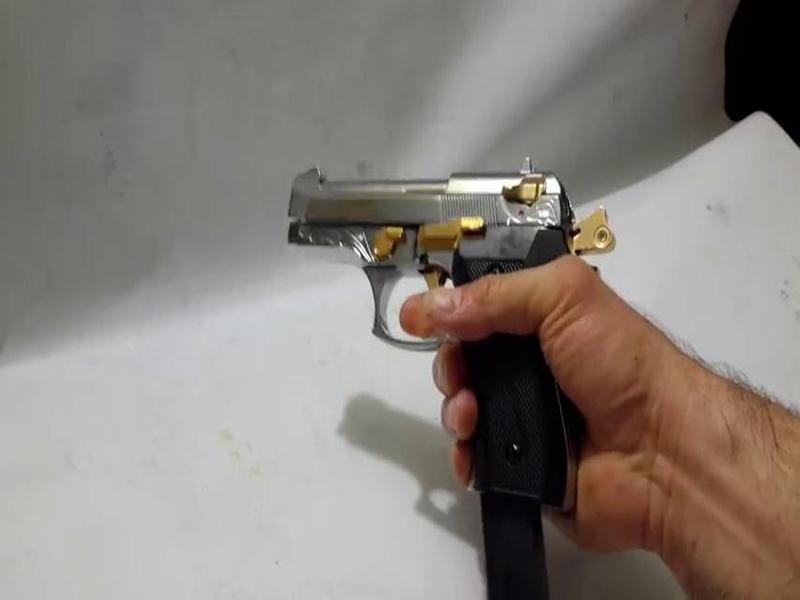Pistola: (224, 150, 608, 518)
